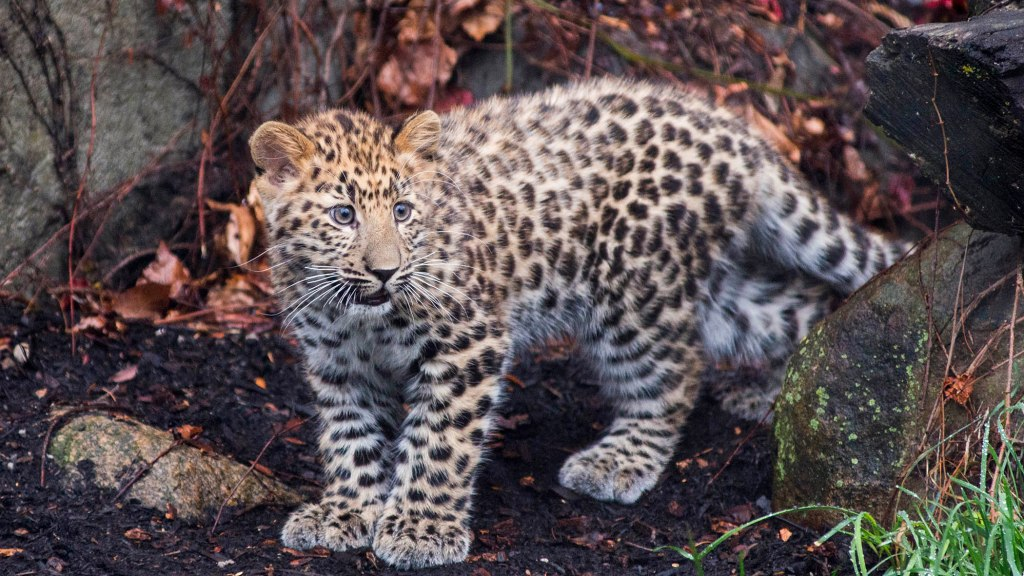amur_leopard: (233, 46, 814, 545)
